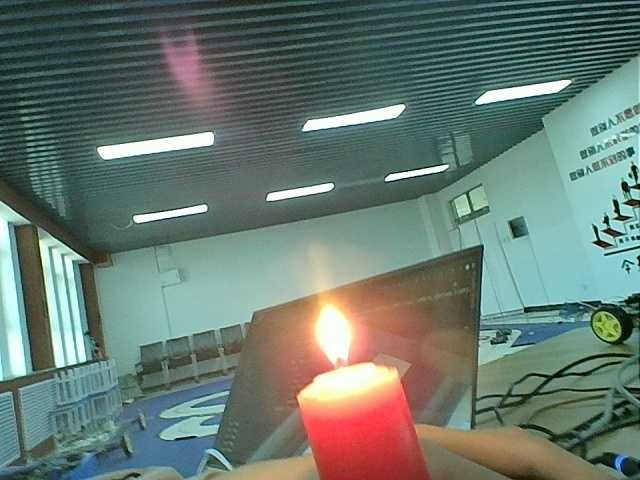candle: (285, 364, 447, 480)
fire: (300, 295, 370, 375)
